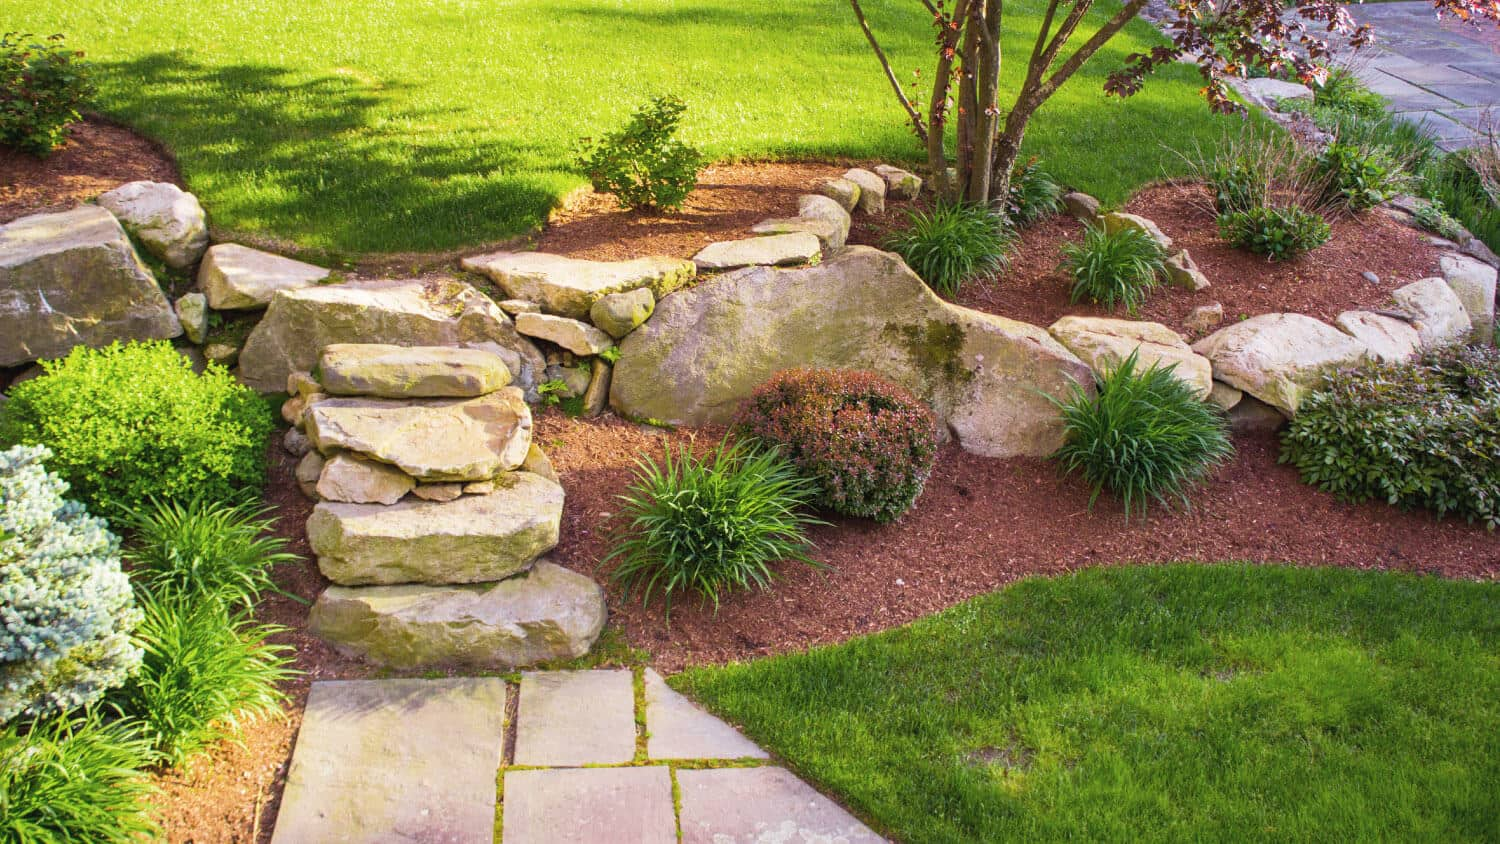grass: (667, 571, 1491, 837), (4, 1, 919, 239)
rock: (603, 256, 1490, 473), (241, 251, 599, 672), (0, 179, 232, 375)
tree: (921, 37, 1029, 223)
